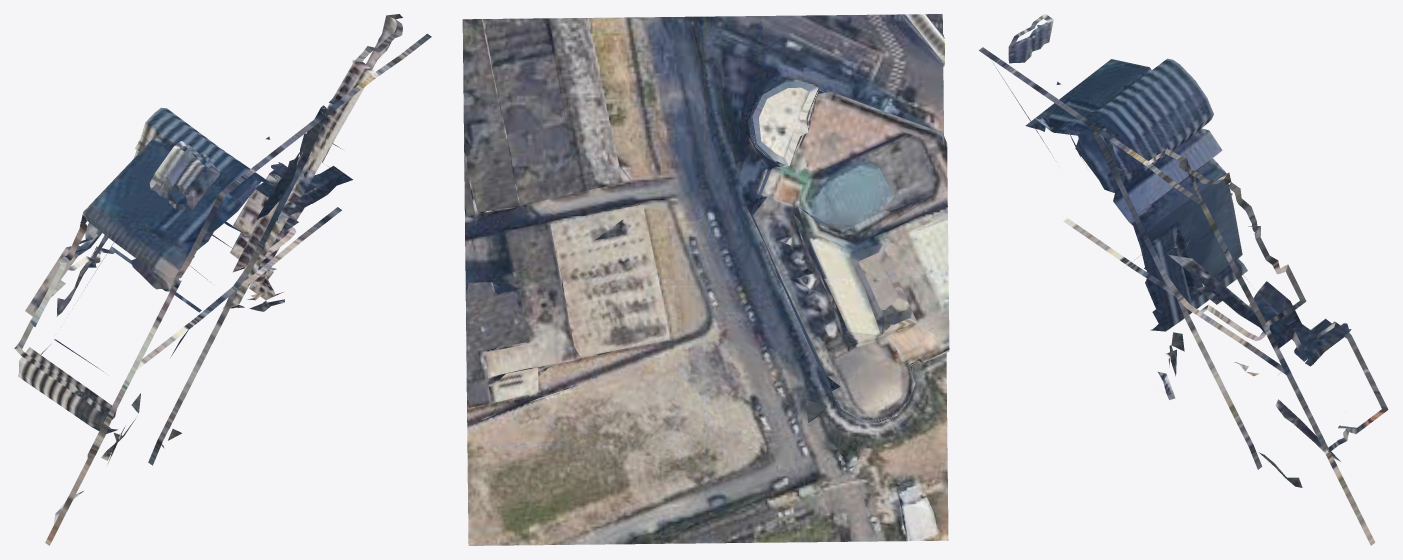
3 views of the same model, side by side, from view 1: azimuth 30°, elevation 25°; view 2: azimuth 150°, elevation 25°; view 3: azimuth 270°, elevation 25° (orthographic). The views are drawn at different scales.
Size of the model in its own units: 159 by 148 by 133.
Materials: 2 (2 with a texture image).
